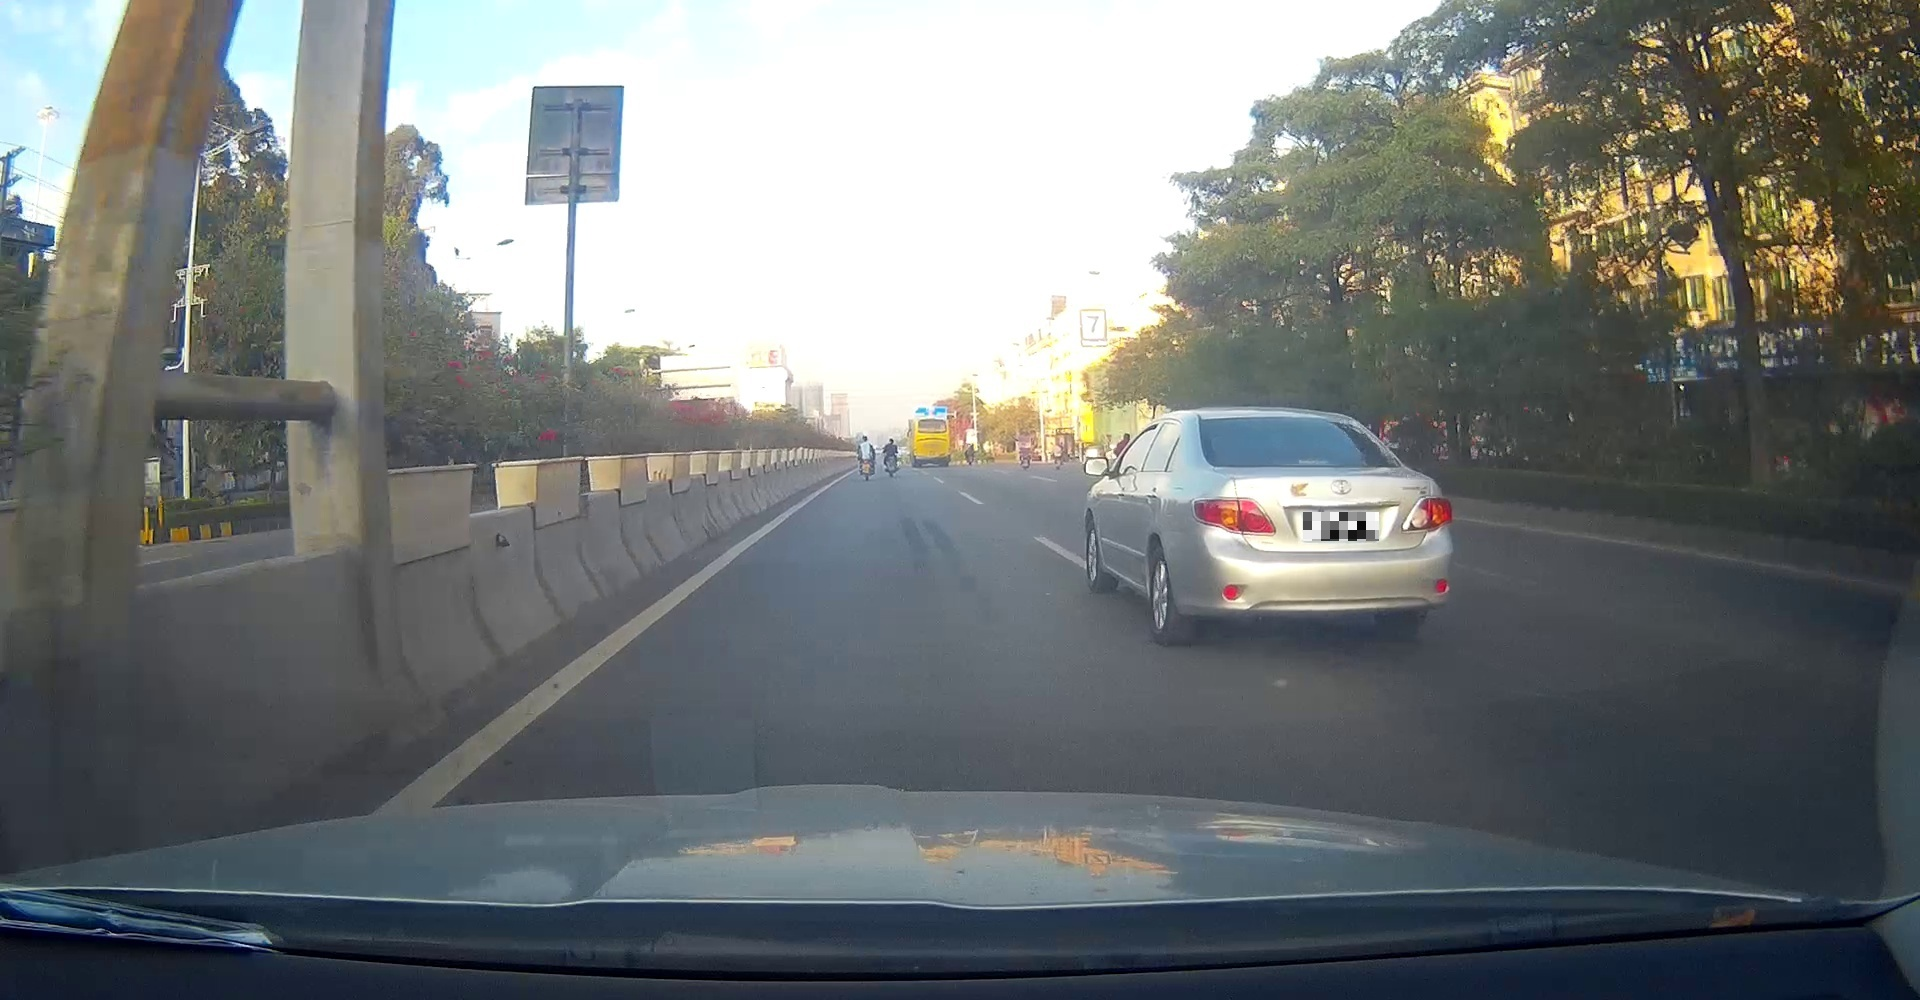L_light: (1192, 497, 1277, 536)
R_light: (1399, 496, 1453, 534)
T_light: (1299, 459, 1330, 467)
day-no: (1183, 405, 1455, 646)
plate_1: (1303, 511, 1379, 541)
